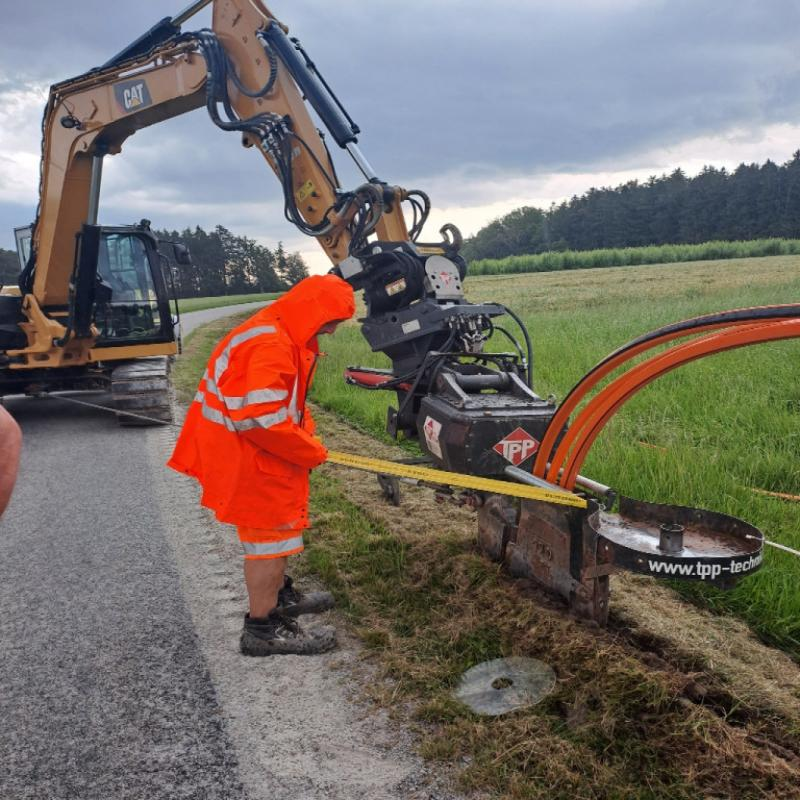Orang-Speednetrohrchen: (533, 303, 792, 487)
